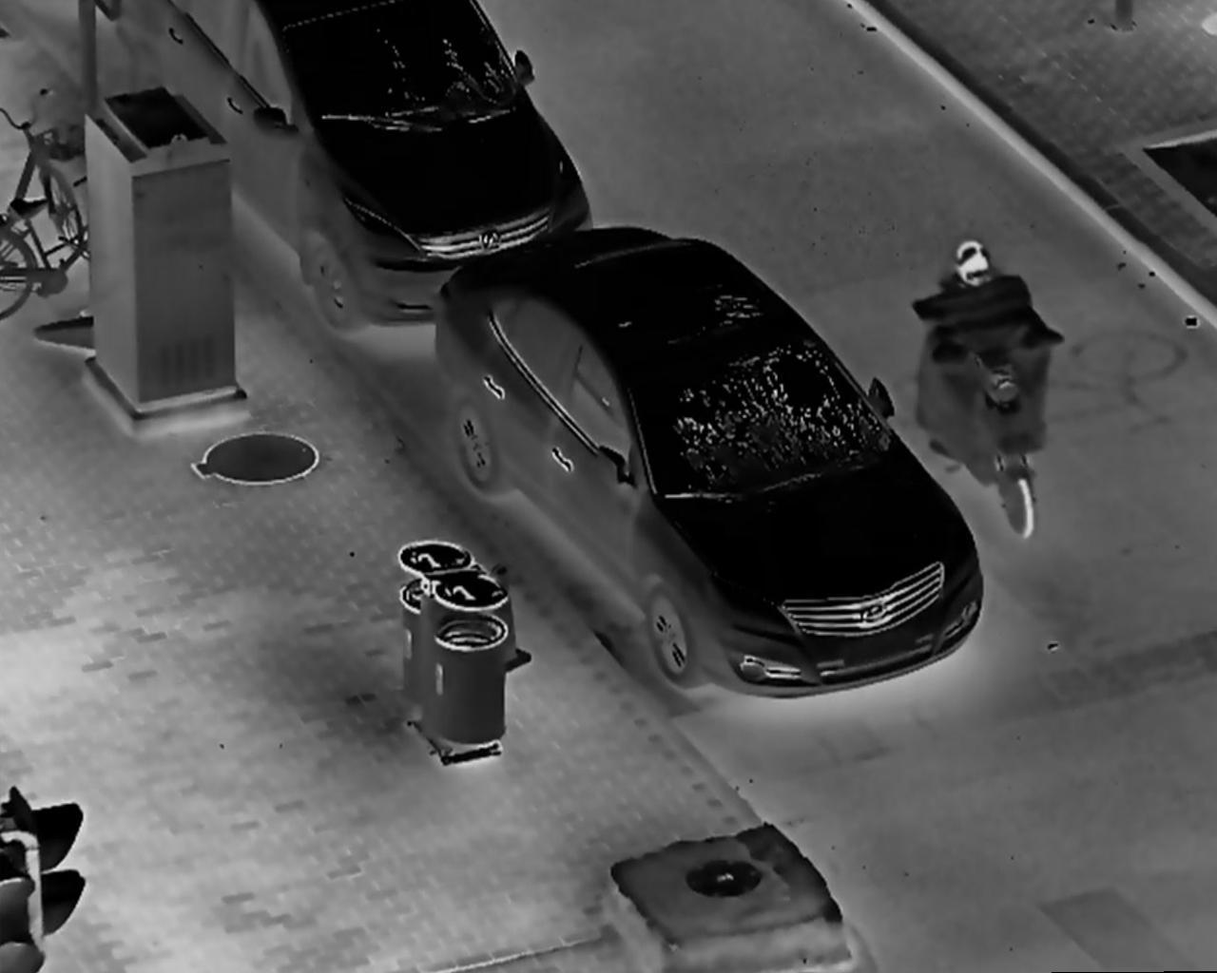person: (927, 236, 1037, 445)
